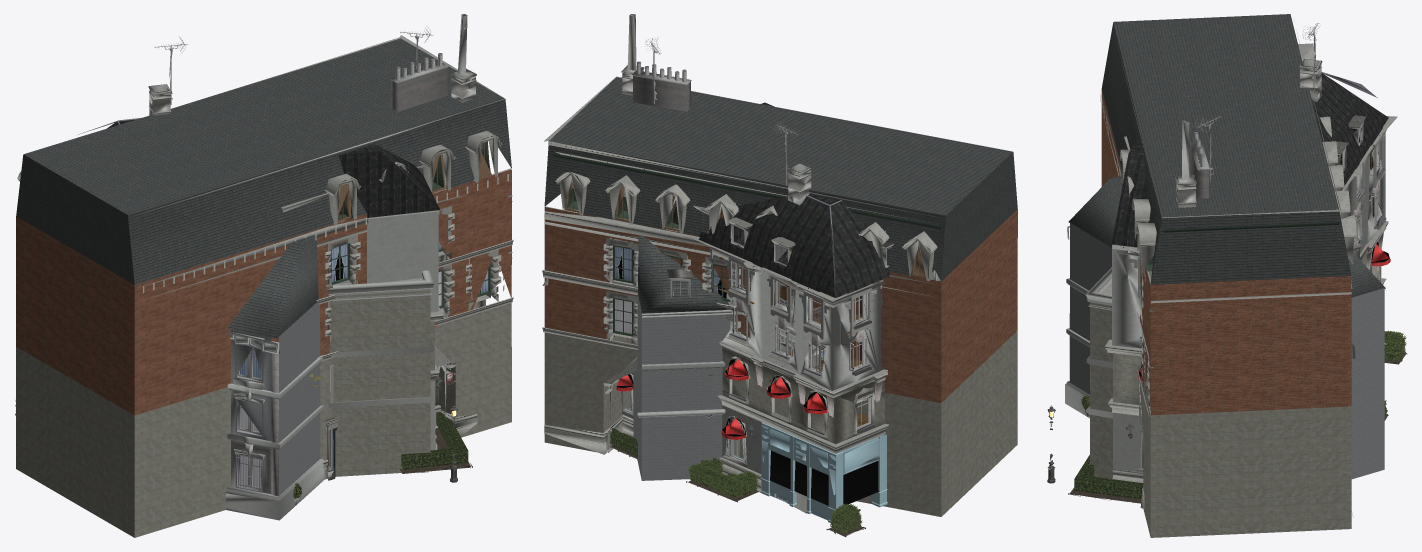
Rendered from district-low.glb.
3 renders of one model, left to right at view 1: azimuth 30°, elevation 25°; view 2: azimuth 150°, elevation 25°; view 3: azimuth 270°, elevation 25°, orthographic. The views are drawn at different scales.
Visible parts, largest first — view 1: Bistro_Research_Exterior_paris_building_02_4913, Bistro_Research_Exterior_paris_building_02_4919, Bistro_Research_Exterior_paris_building_02_4921, Bistro_Research_Exterior_paris_building_03_4943, Bistro_Research_Exterior_paris_building_02_4909, Bistro_Research_Exterior_paris_building_03_mirrored_10__4967, Bistro_Research_Exterior_paris_building_09_5443, Bistro_Research_Exterior_paris_building_03_mirrored_7__4981, Bistro_Research_Exterior_paris_building_03_mirrored_6__4979, Bistro_Research_Exterior_paris_building_09_5453, Bistro_Research_Exterior_paris_building_03_4945, Bistro_Research_Exterior_Paris_Chimney_02C_5975.1 (+10 smaller); view 2: Bistro_Research_Exterior_paris_building_02_4913, Bistro_Research_Exterior_paris_building_02_4919, Bistro_Research_Exterior_paris_building_02_4921, Bistro_Research_Exterior_paris_building_02_4909, Bistro_Research_Exterior_paris_building_03_mirrored_10__4967, Bistro_Research_Exterior_paris_building_09_5443, Bistro_Research_Exterior_paris_building_09_5453, Bistro_Research_Exterior_paris_building_09_5433, Bistro_Research_Exterior_paris_building_09_5455, Bistro_Research_Exterior_paris_building_09_5449, Bistro_Research_Exterior_paris_building_03_mirrored_6__4979, Bistro_Research_Exterior_paris_building_09_5465 (+13 smaller); view 3: Bistro_Research_Exterior_paris_building_02_4913, Bistro_Research_Exterior_paris_building_02_4919, Bistro_Research_Exterior_paris_building_02_4921, Bistro_Research_Exterior_paris_building_03_mirrored_10__4967, Bistro_Research_Exterior_paris_building_09_5443, Bistro_Research_Exterior_paris_building_02_4909, Bistro_Research_Exterior_paris_building_09_5453, Bistro_Research_Exterior_paris_building_03_4943, Bistro_Research_Exterior_paris_building_09_5433, Bistro_Research_Exterior_paris_building_03_mirrored_6__4979, Bistro_Research_Exterior_paris_building_09_5449, Bistro_Research_Exterior_bux_hedge_box_long_low13_3973 (+8 smaller).
Boxes of the visible parts, box(x1,y1,x2,y2) form: Bistro_Research_Exterior_paris_building_02_4913: box(16, 38, 511, 284); Bistro_Research_Exterior_paris_building_02_4919: box(16, 169, 511, 415); Bistro_Research_Exterior_paris_building_02_4921: box(16, 303, 511, 537); Bistro_Research_Exterior_paris_building_03_4943: box(330, 290, 430, 476); Bistro_Research_Exterior_paris_building_02_4909: box(17, 35, 513, 480); Bistro_Research_Exterior_paris_building_03_mirrored_10__4967: box(231, 301, 320, 495); Bistro_Research_Exterior_paris_building_09_5443: box(330, 211, 438, 450); Bistro_Research_Exterior_paris_building_03_mirrored_7__4981: box(226, 331, 324, 520); Bistro_Research_Exterior_paris_building_03_mirrored_6__4979: box(227, 235, 318, 338); Bistro_Research_Exterior_paris_building_09_5453: box(107, 119, 439, 220); Bistro_Research_Exterior_paris_building_03_4945: box(326, 270, 434, 408); Bistro_Research_Exterior_Paris_Chimney_02C_5975.1: box(390, 67, 447, 111); Bistro_Research_Exterior_paris_building_02_4913: box(544, 77, 1017, 281); Bistro_Research_Exterior_paris_building_02_4919: box(544, 207, 1017, 402); Bistro_Research_Exterior_paris_building_02_4921: box(544, 331, 1017, 516); Bistro_Research_Exterior_paris_building_02_4909: box(542, 76, 937, 456); Bistro_Research_Exterior_paris_building_03_mirrored_10__4967: box(630, 286, 730, 480); Bistro_Research_Exterior_paris_building_09_5443: box(611, 214, 884, 473); Bistro_Research_Exterior_paris_building_09_5453: box(671, 102, 890, 297); Bistro_Research_Exterior_paris_building_09_5433: box(615, 205, 894, 492); Bistro_Research_Exterior_paris_building_09_5455: box(624, 387, 887, 522); Bistro_Research_Exterior_paris_building_09_5449: box(613, 335, 885, 443); Bistro_Research_Exterior_paris_building_03_mirrored_6__4979: box(633, 226, 729, 313); Bistro_Research_Exterior_paris_building_09_5465: box(616, 211, 884, 427); Bistro_Research_Exterior_paris_building_02_4913: box(1101, 14, 1351, 284); Bistro_Research_Exterior_paris_building_02_4919: box(1101, 89, 1351, 415); Bistro_Research_Exterior_paris_building_02_4921: box(1140, 377, 1351, 537); Bistro_Research_Exterior_paris_building_03_mirrored_10__4967: box(1070, 222, 1384, 479); Bistro_Research_Exterior_paris_building_09_5443: box(1112, 133, 1385, 472); Bistro_Research_Exterior_paris_building_02_4909: box(1100, 39, 1356, 517); Bistro_Research_Exterior_paris_building_09_5453: box(1111, 73, 1388, 247); Bistro_Research_Exterior_paris_building_03_4943: box(1090, 302, 1112, 479); Bistro_Research_Exterior_paris_building_09_5433: box(1105, 115, 1397, 482); Bistro_Research_Exterior_paris_building_03_mirrored_6__4979: box(1068, 175, 1385, 297); Bistro_Research_Exterior_paris_building_09_5449: box(1113, 240, 1381, 406); Bistro_Research_Exterior_bux_hedge_box_long_low13_3973: box(1074, 455, 1143, 499).
Size of the model in its own units: 28.28 by 25.76 by 20.95.
42 materials, 36 textured.
